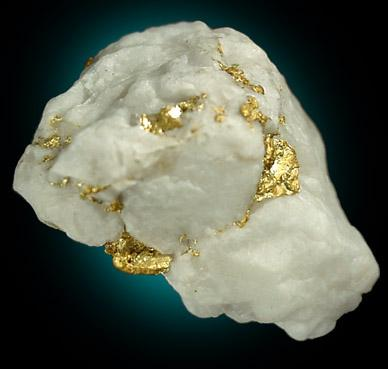gold: (235, 133, 301, 228), (104, 231, 173, 276), (139, 96, 207, 134), (218, 62, 265, 94), (33, 115, 72, 149), (240, 96, 270, 126), (78, 184, 108, 203), (49, 177, 70, 188), (183, 243, 199, 256), (106, 200, 121, 212)
